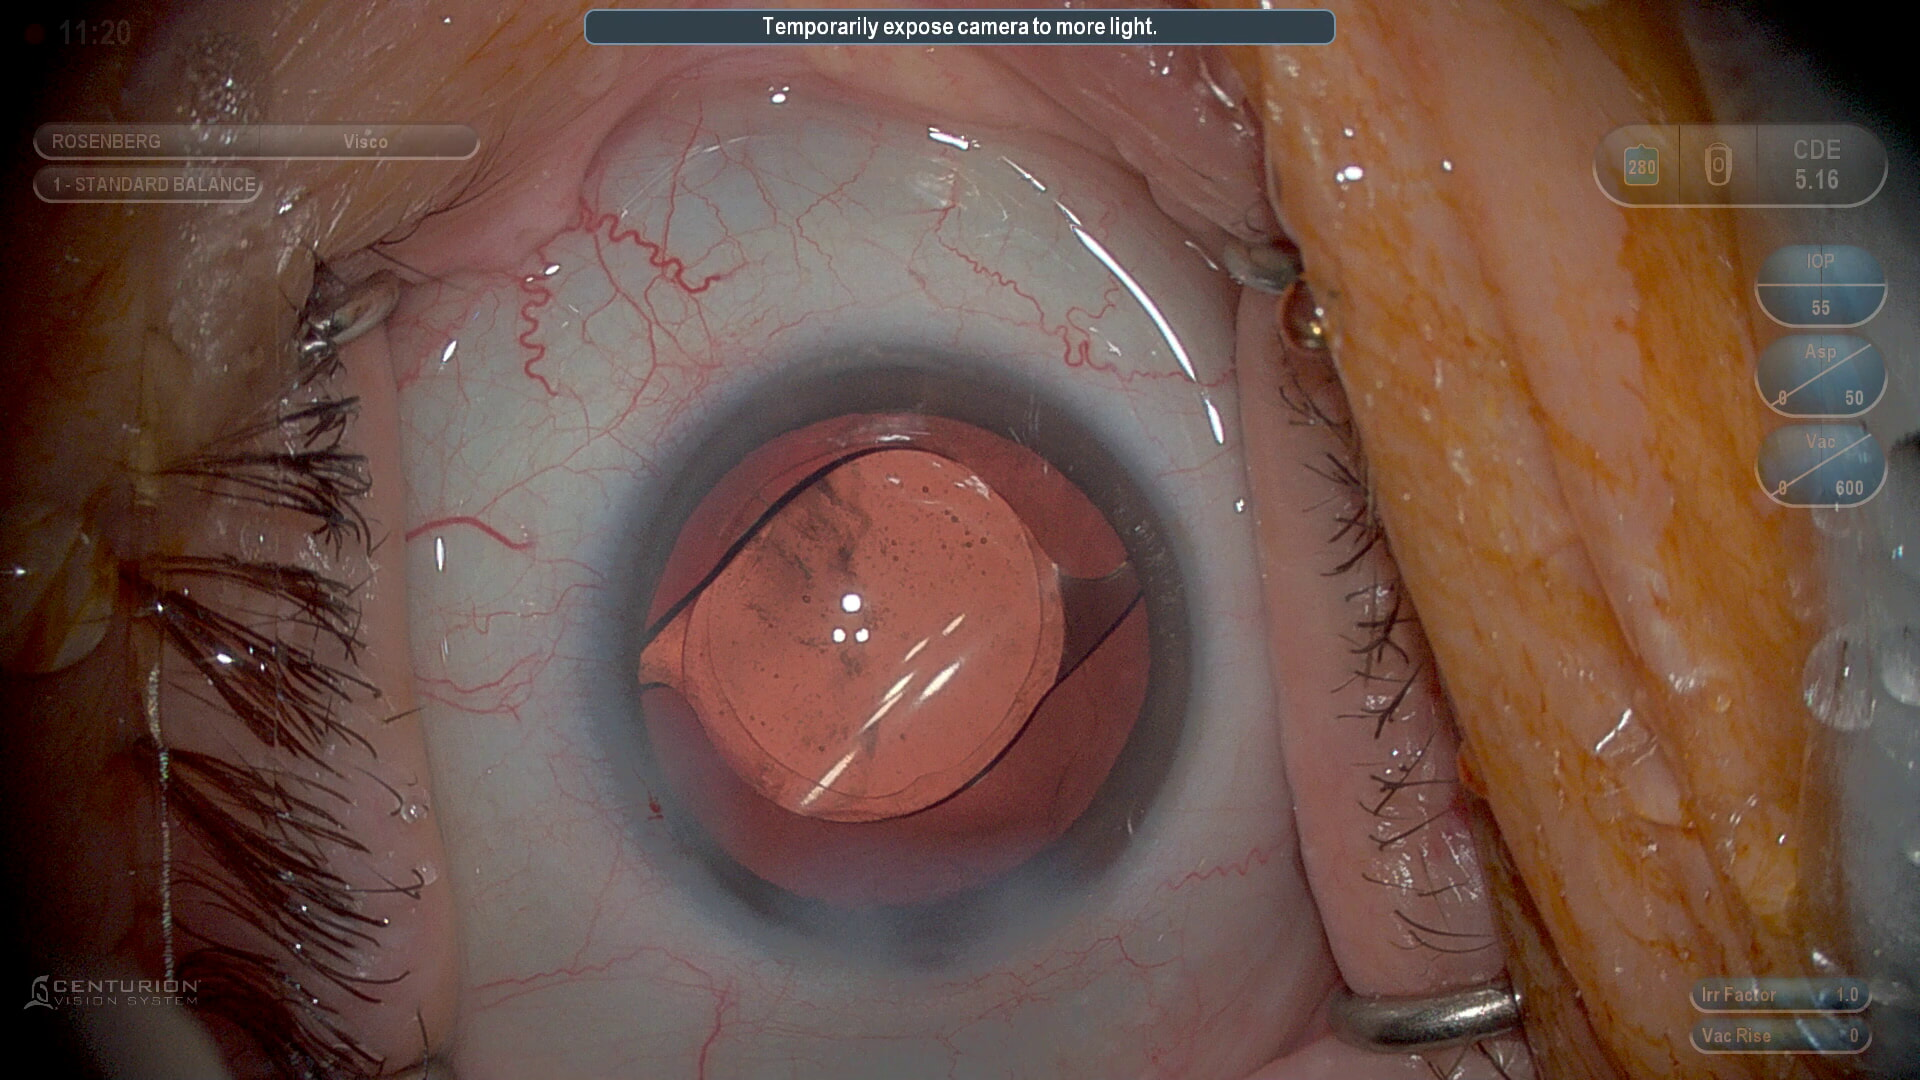iris: (591, 365, 1189, 955)
pupil: (635, 414, 1159, 900)
